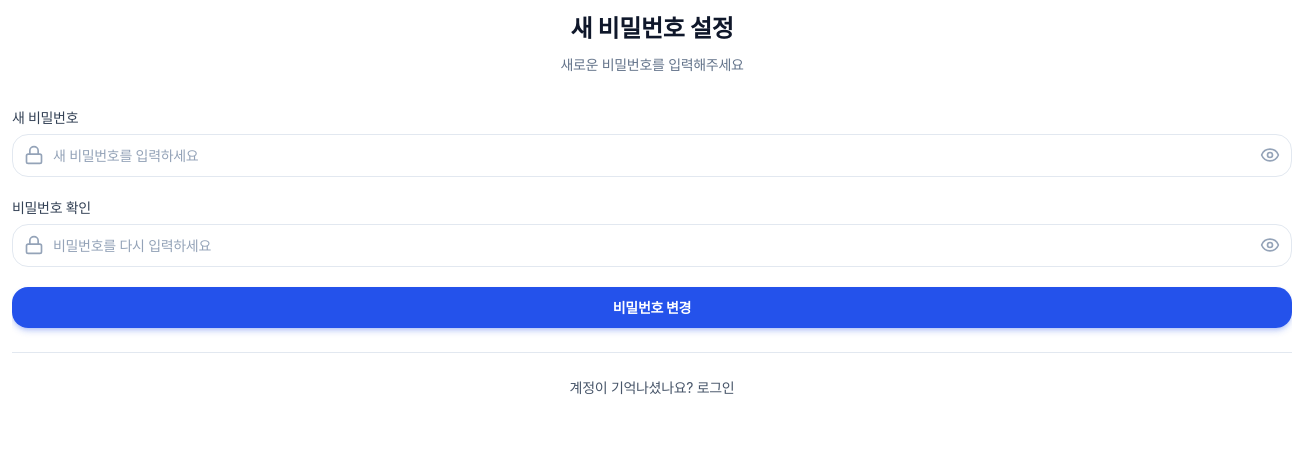
Test case: ResetPasswordForm › 유효성 검사 › 빈 필드로 제출하면 에러 메시지가 표시된다
The image size is (1304, 457).
Click the button "비밀번호 변경".
click(652, 307)  # box [12,287,1292,328]
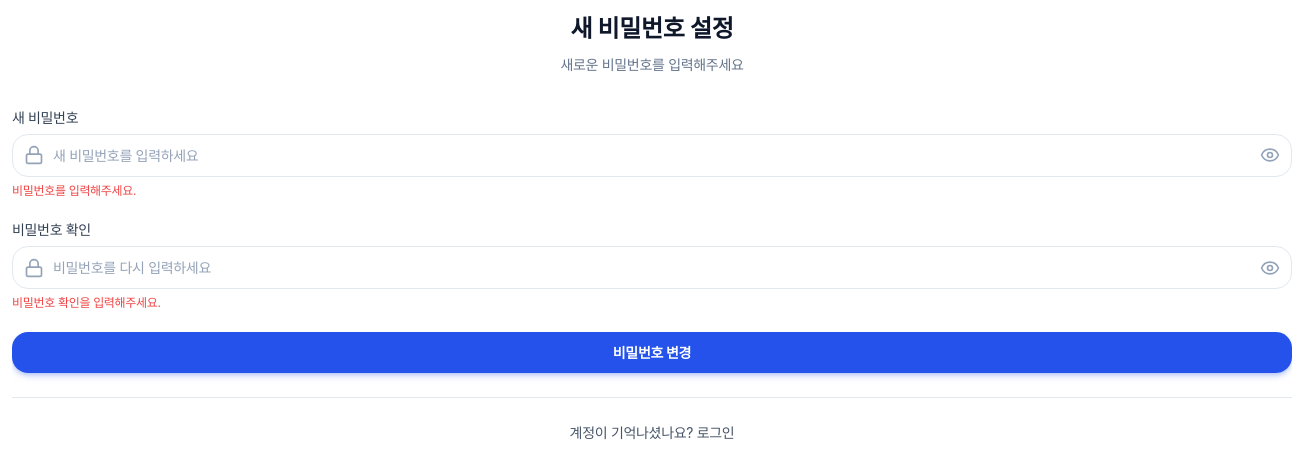
Check: the text "비밀번호를 입력해주세요." is shown, box [12,183,136,198]
